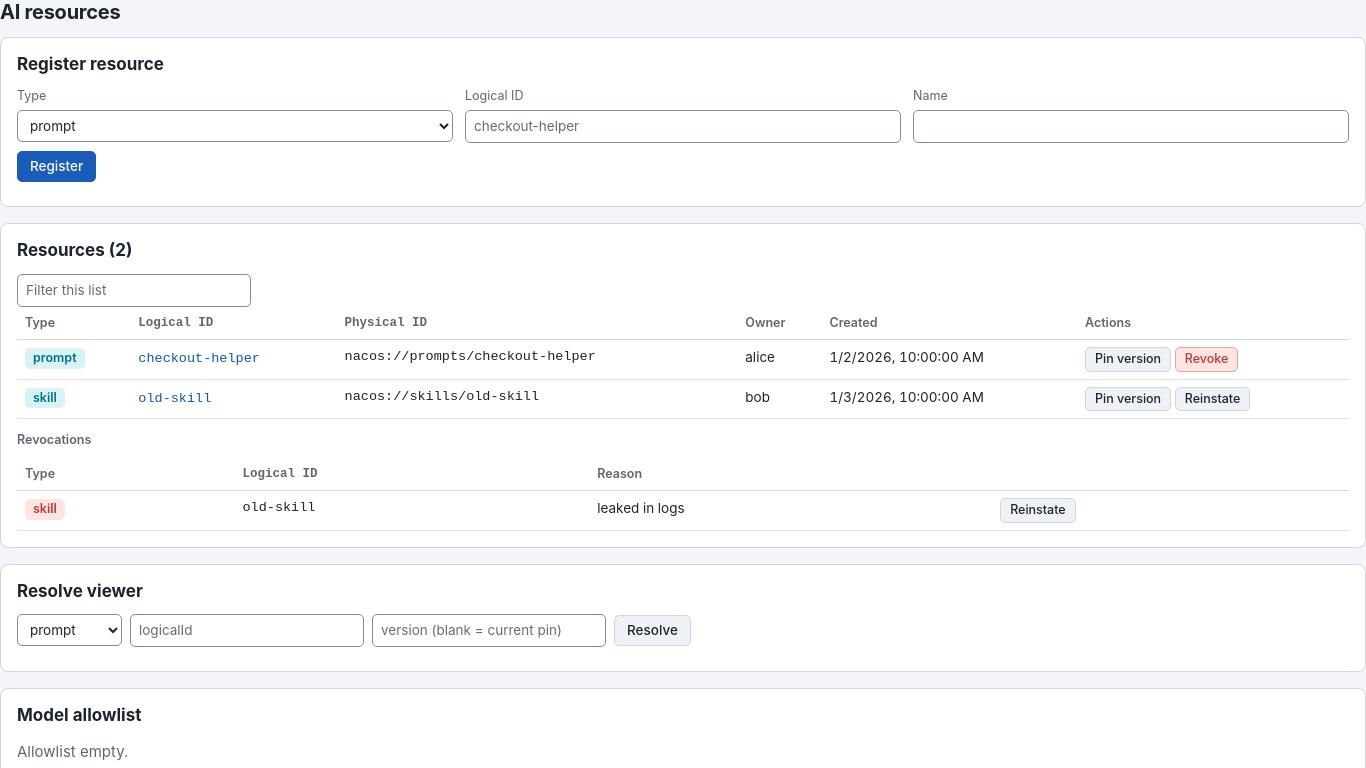
Test: AiPage list › pins a version through the approval dialog
Click the button "Pin version" in the row of "nacos://prompts/checkout-helper".
click(1128, 359)  # box [1085,347,1171,372]
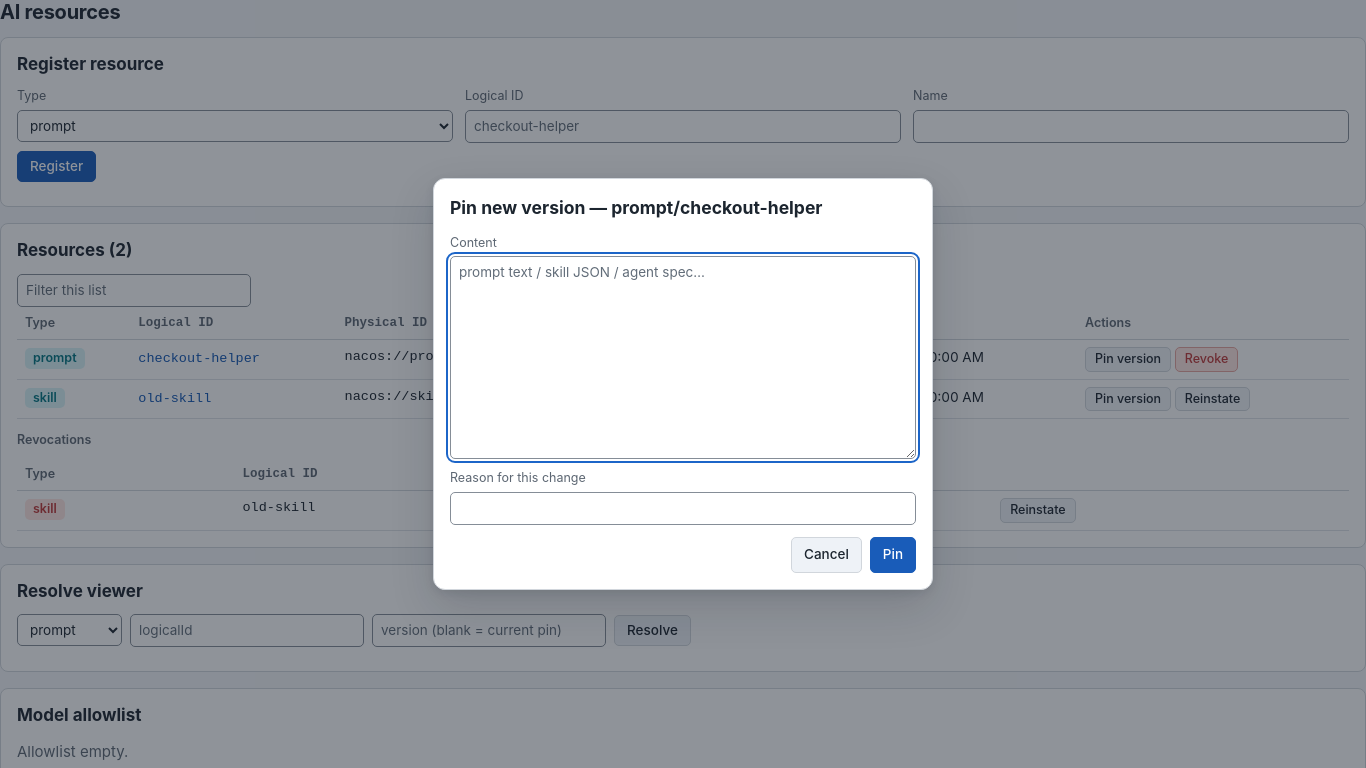
Result: the dialog shows "Pin new version — prompt/checkout-helper" at [450,197,822,218]
Content is required: submitting empty content toasts and stays open.
Type "pin v1" into the field labelled "Reason for this change".
click(683, 508); type("pin v1")  # box [450,492,916,525]
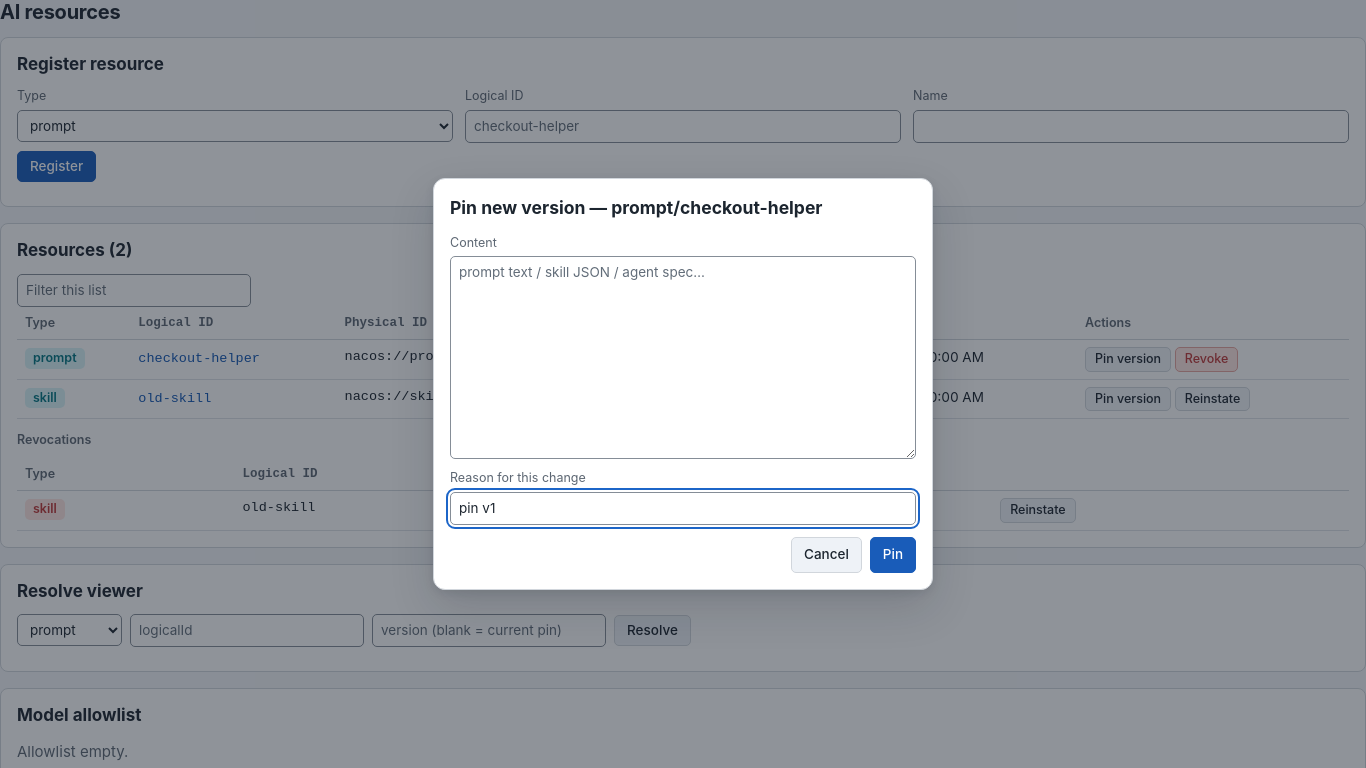
Click the button "Pin".
click(893, 555)  # box [870,537,916,573]
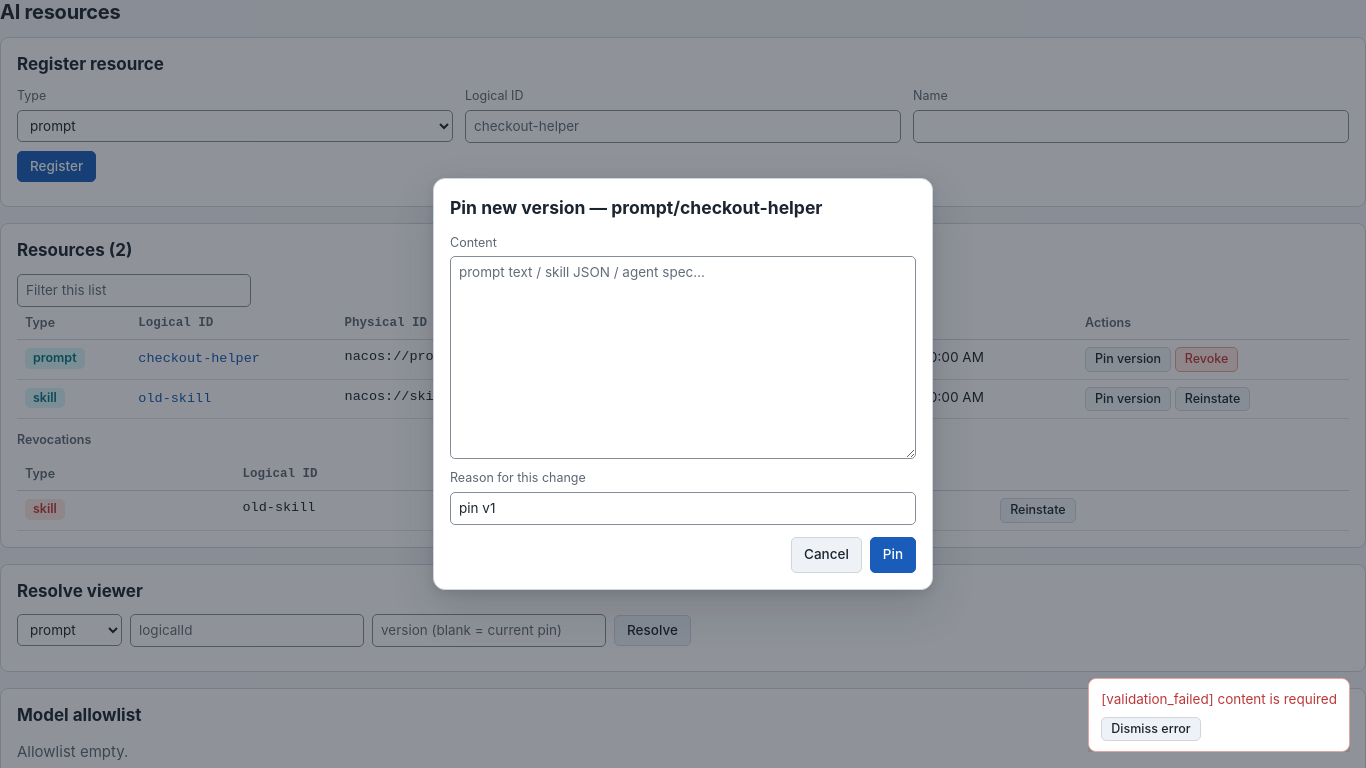
Result: the text "[validation_failed] content is required Dismiss error" is shown at [1088,678,1350,752]
Type "say hello" into the text box labelled "Content".
click(683, 358); type("say hello")  # box [450,256,916,459]
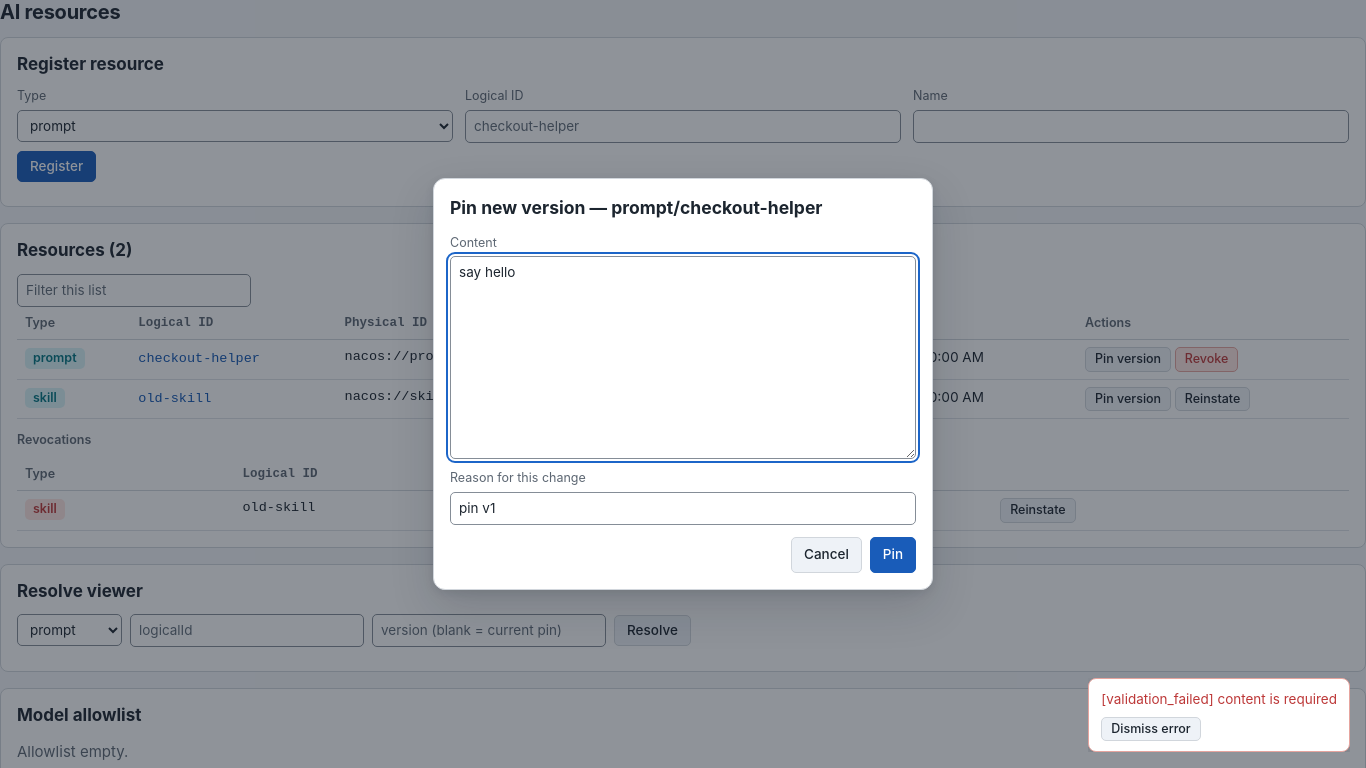
Click the button "Pin".
click(893, 555)  # box [870,537,916,573]
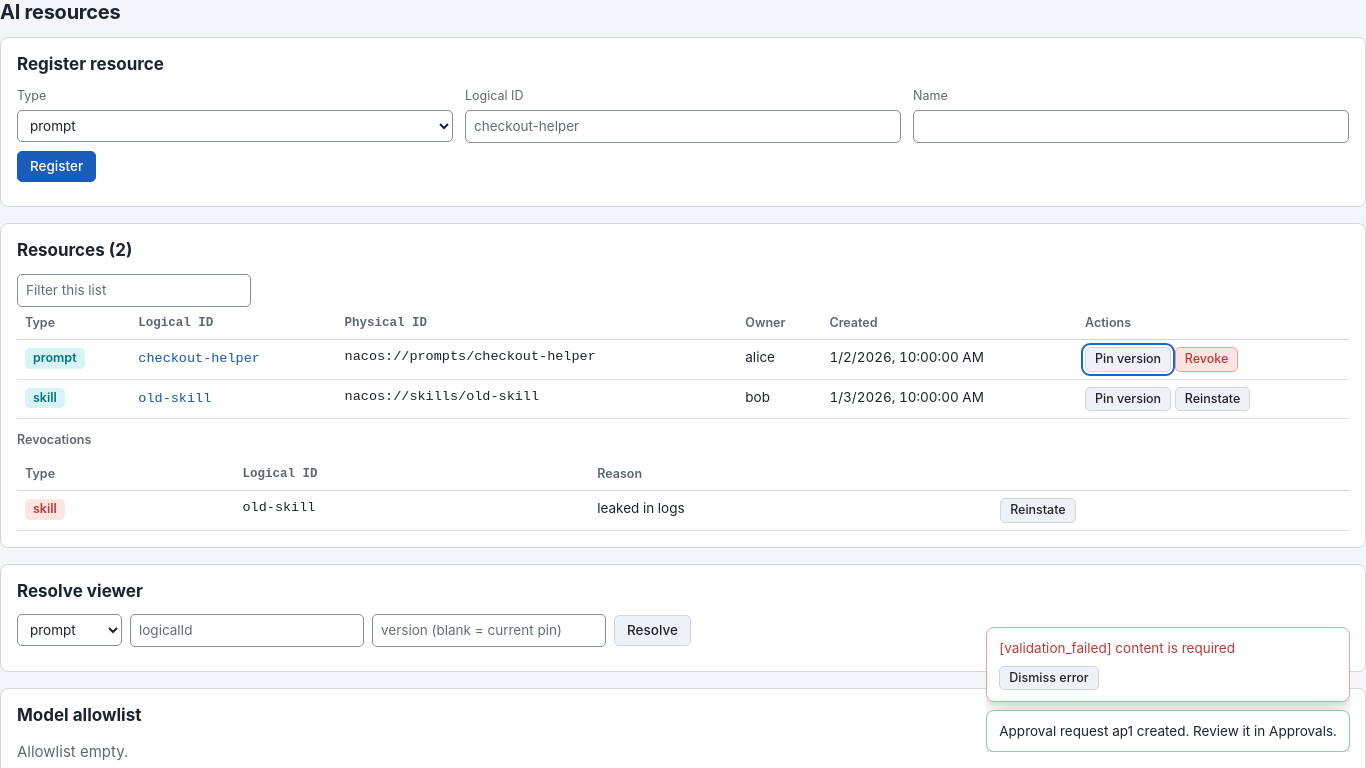
Result: the text "Approval request ap1 created. Review it in Approvals." is shown at [986,710,1350,752]
